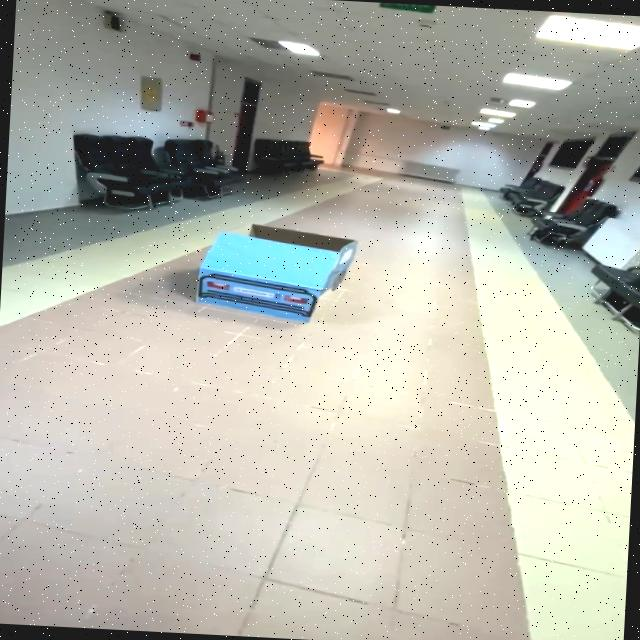blue_car: (164, 210, 401, 332)
